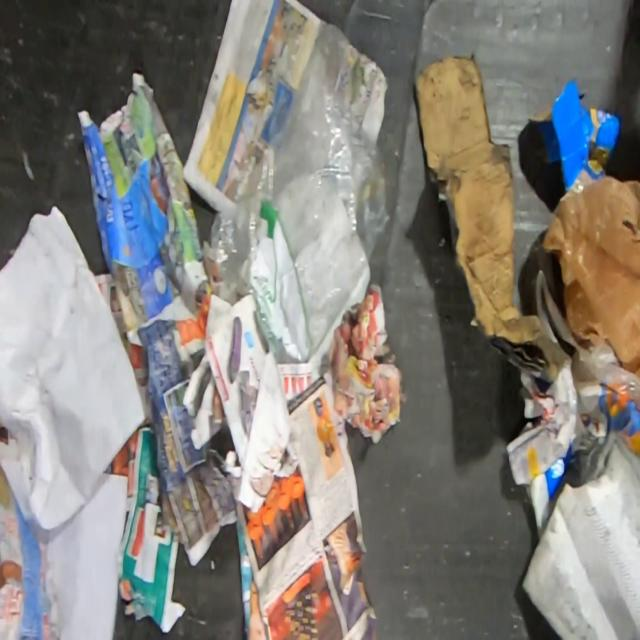cardboard: (414, 54, 574, 381), (527, 78, 624, 195)
soft_plastic: (202, 19, 391, 365), (540, 169, 640, 381), (534, 268, 640, 411)
